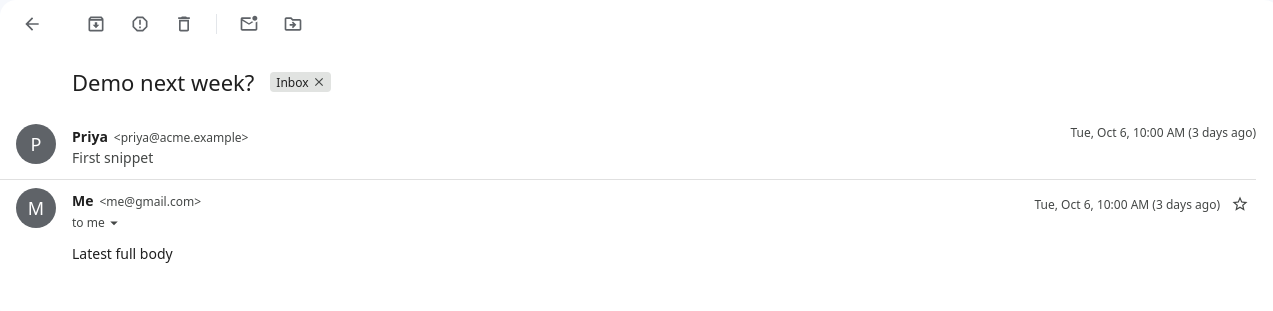
ThreadPage › collapses earlier read messages and expands them on click
Expected: the text "Latest full body" is shown, [72,244,173,262]
Expected: the text "First full body" is not shown
Click the button "Priya <priya@acme.example>" at (160, 136), box [72,126,248,146]
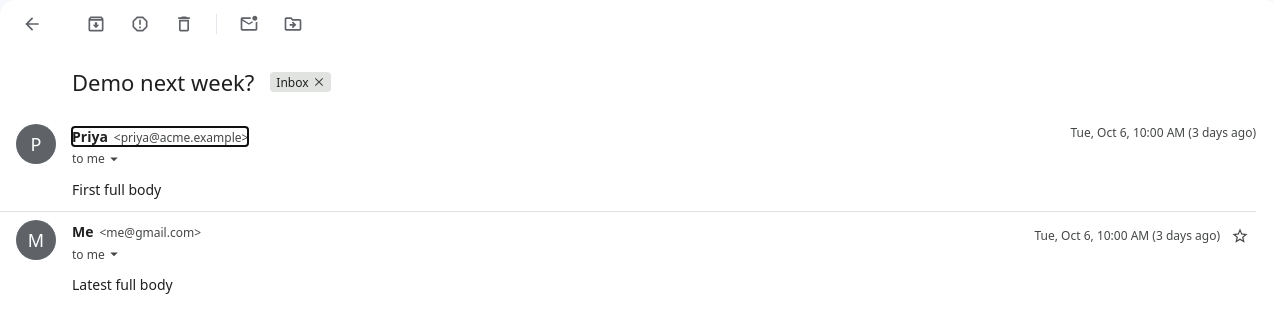
Expected: the text "First full body" is shown, [72,180,161,198]
